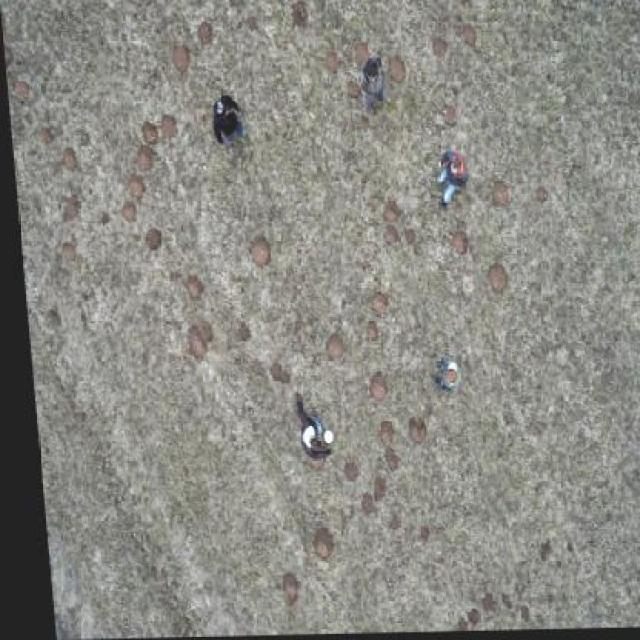Person: (276, 390, 330, 468), (352, 45, 396, 124), (429, 143, 477, 214), (205, 86, 248, 160), (420, 354, 462, 404)
